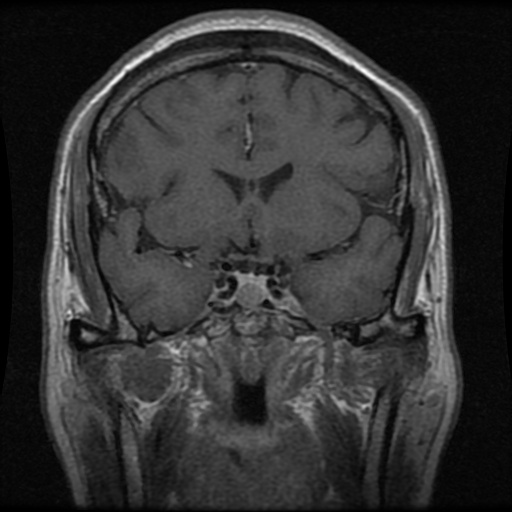pituitary: (235, 274, 266, 306)
